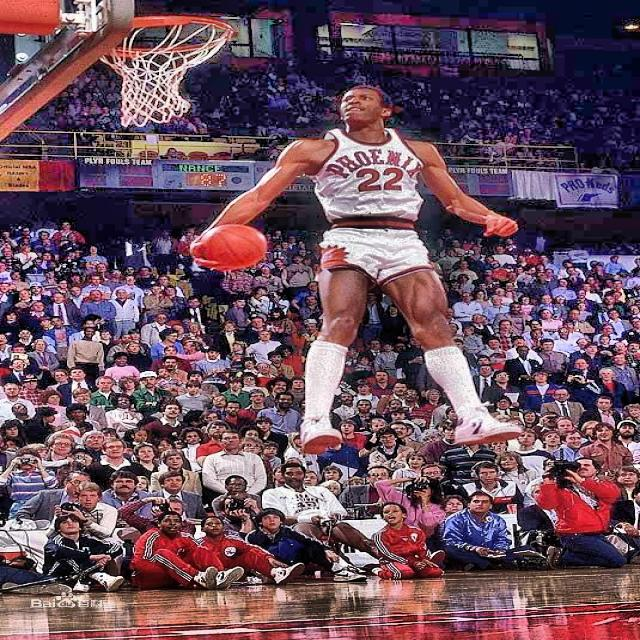board: (206, 224, 268, 271)
rim: (102, 16, 235, 123)
